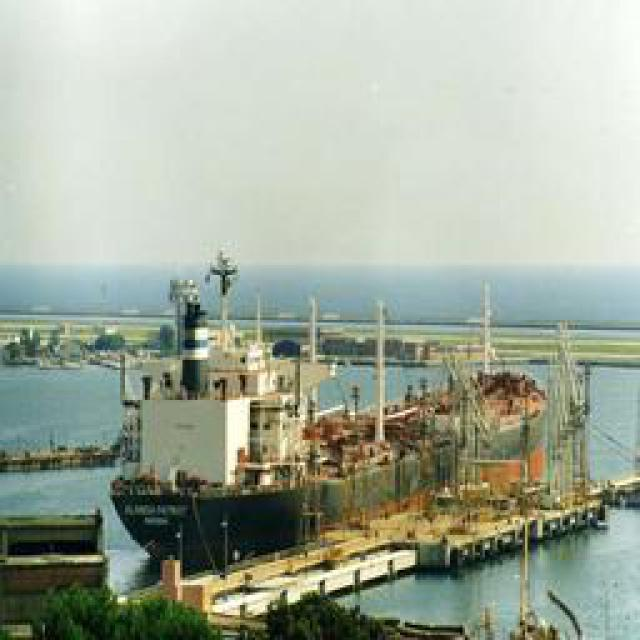Ship: (113, 274, 618, 567)
